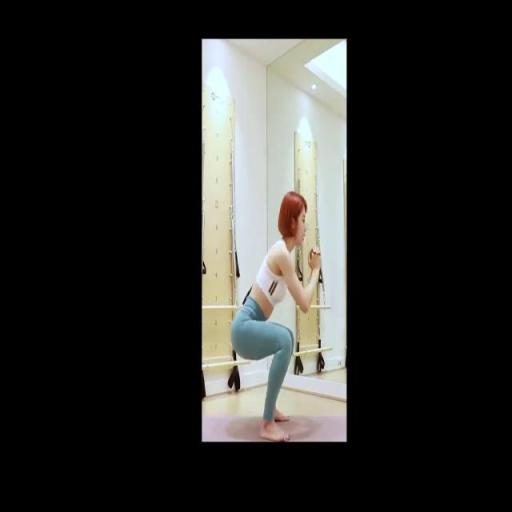Normal_BrenchPress: (227, 191, 322, 442)
